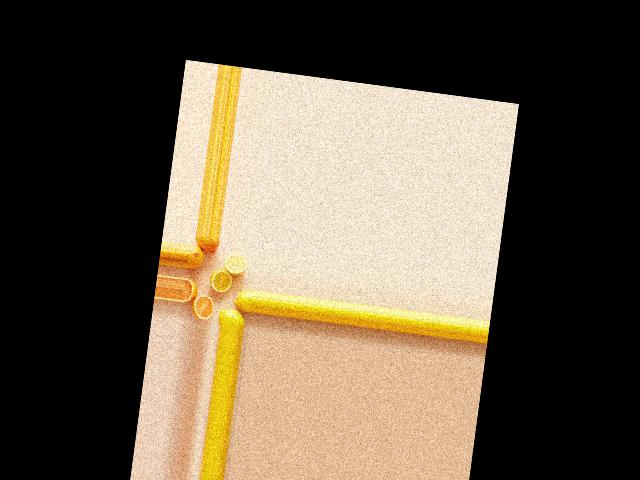lemon: (191, 235, 222, 257)
